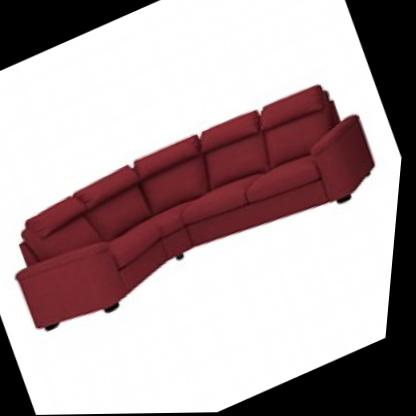Sofa: (0, 60, 411, 372)
